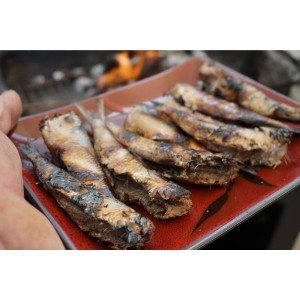sardine_brain food: (40, 75, 281, 227)
